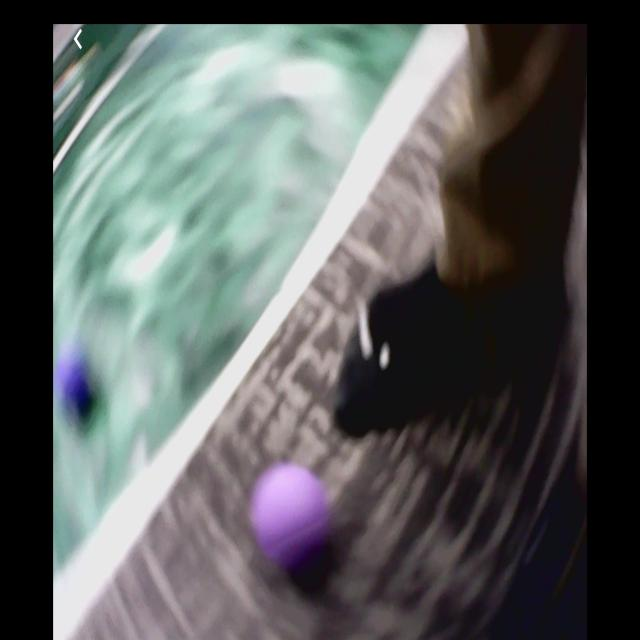ball: (253, 467, 329, 563), (59, 356, 97, 415)
